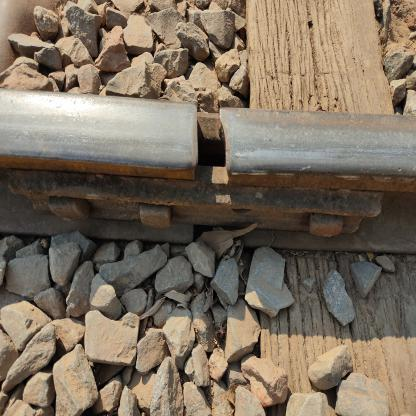Defective 2: (174, 82, 251, 204)
